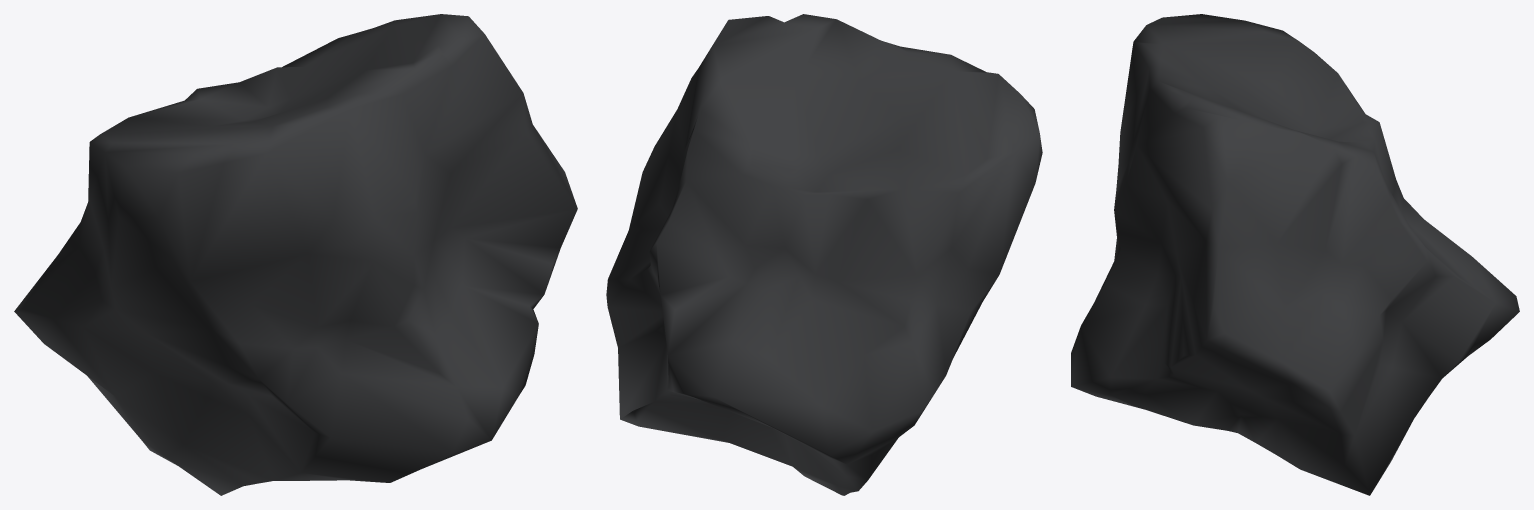
File: Sem4_Environment_Stein06_JT.fbx
The picture shows the model from 3 angles, left to right: view 1: azimuth 30°, elevation 25°; view 2: azimuth 150°, elevation 25°; view 3: azimuth 270°, elevation 25°; orthographic projection. The views are drawn at different scales.
Visible parts, largest first — view 1: Stein06_JT; view 2: Stein06_JT; view 3: Stein06_JT.
Boxes of the visible parts, left/top/right/bottom form: Stein06_JT: left=14, top=14, right=577, bottom=495; Stein06_JT: left=606, top=14, right=1042, bottom=495; Stein06_JT: left=1071, top=14, right=1519, bottom=495.
Bounding box in the file's own units: 30.15 × 29.91 × 29.73.
